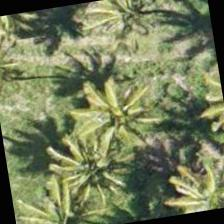Kelapa_Sawit: (33, 118, 136, 222), (72, 53, 174, 156), (89, 0, 188, 60), (8, 162, 102, 223), (154, 135, 223, 218)
